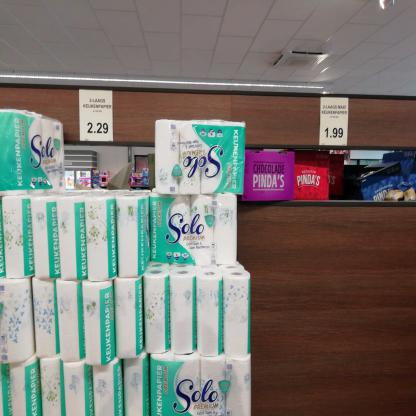prtg: (80, 91, 114, 143), (320, 99, 350, 147)
